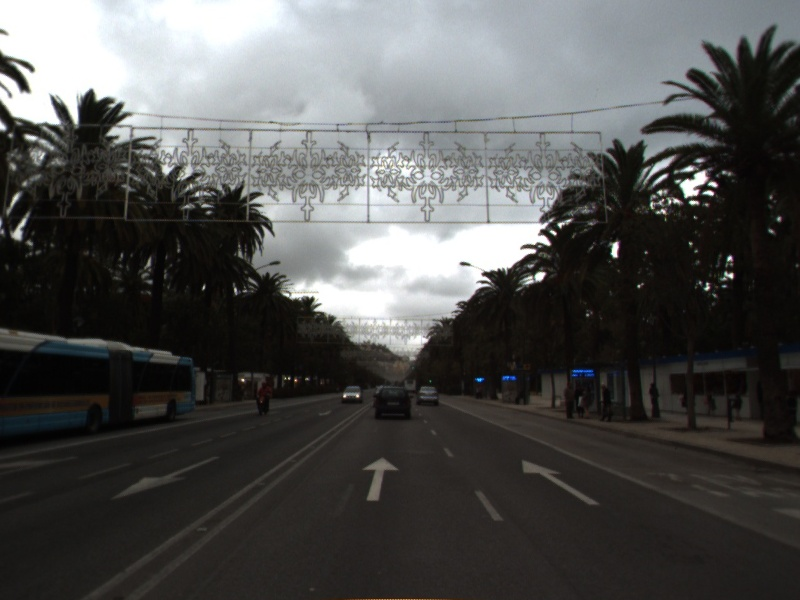STRAIGHT: (520, 458, 602, 507), (360, 455, 401, 503)
